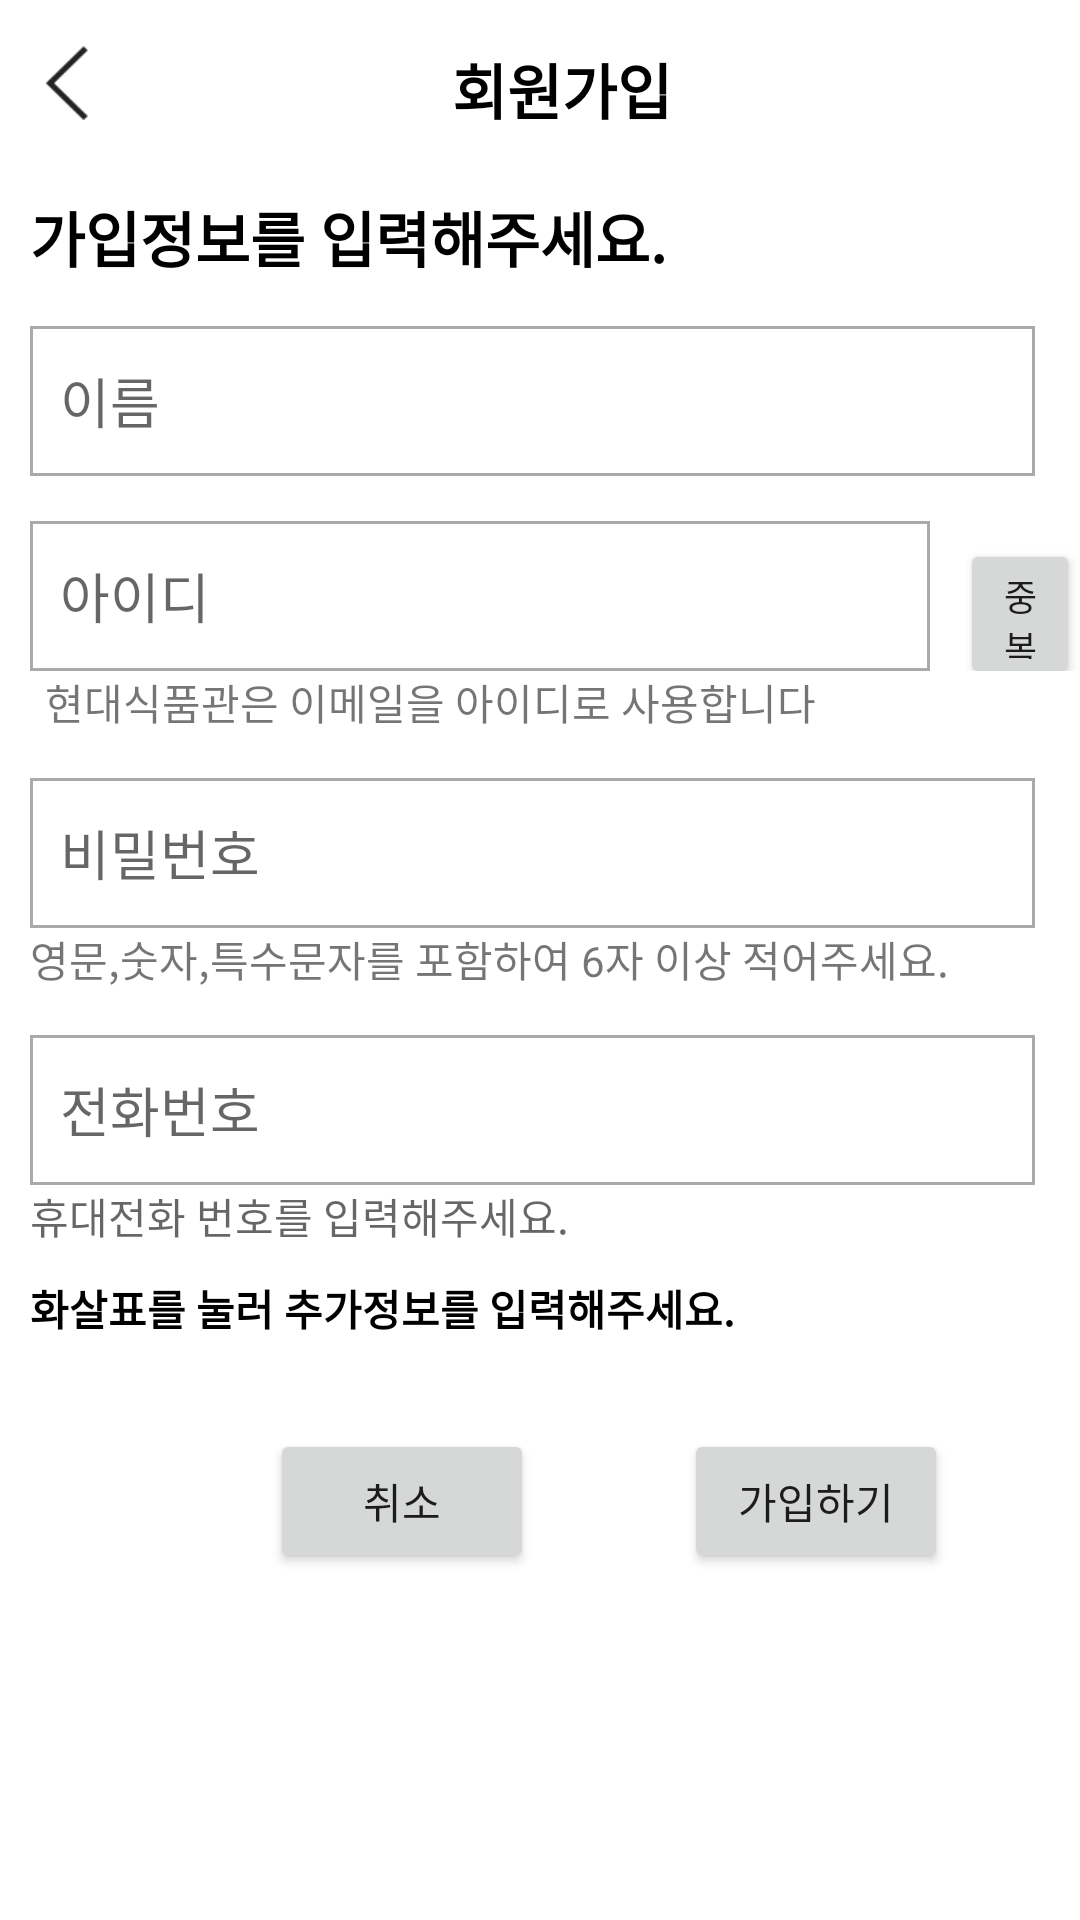

Locate icon controls on the screen. Image size 1080px x 1920px, boxes as (x1, y1, x2, y2).
arrow: (46, 46, 88, 120)
